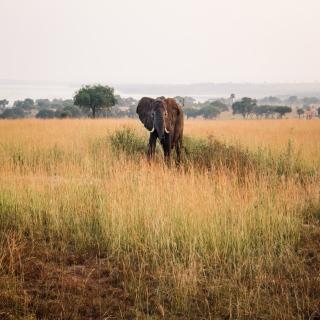Elephant: (134, 90, 194, 162)
